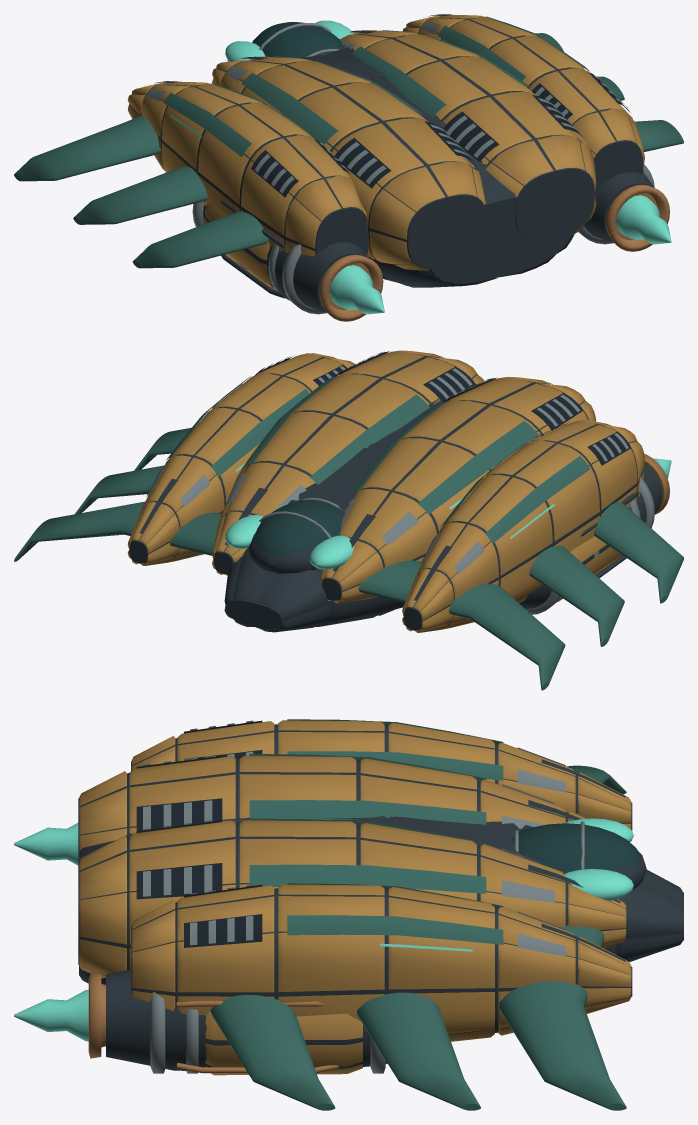
File: scarab_heavy.glb
The picture shows the model from 3 angles, top to bottom: view 1: azimuth 30°, elevation 25°; view 2: azimuth 150°, elevation 25°; view 3: azimuth 270°, elevation 25°; orthographic projection. The views are drawn at different scales.
Parts seen in each view (by area): view 1: scarab_heavy; view 2: scarab_heavy; view 3: scarab_heavy.
Part boxes in pixels (box(x1,y1,x2,y2)): scarab_heavy: box(14, 14, 683, 321); scarab_heavy: box(14, 350, 683, 690); scarab_heavy: box(14, 719, 683, 1110).
Size of the model in its own units: 9.38 by 2.5 by 8.42.
